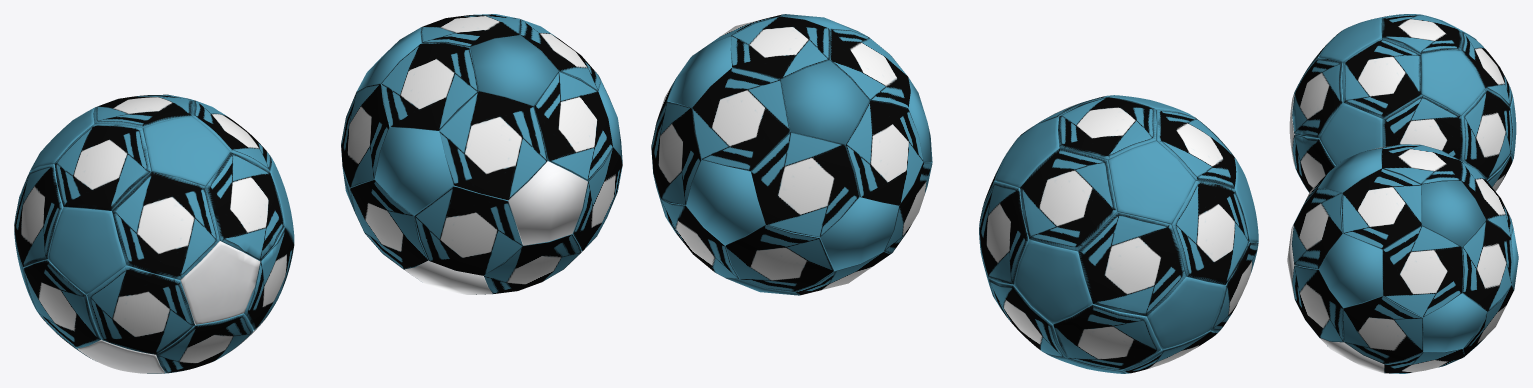
The model's file is corea-del-sur.glb.
3 views of the same model, side by side, from view 1: azimuth 30°, elevation 25°; view 2: azimuth 150°, elevation 25°; view 3: azimuth 270°, elevation 25° (orthographic). The views are drawn at different scales.
Visible parts, largest first — view 1: TANGO78_LOW, TANGO78HIGH; view 2: TANGO78_LOW, TANGO78HIGH; view 3: TANGO78_LOW, TANGO78HIGH.
Boxes of the visible parts, x1,y1,x2,y2 form: TANGO78_LOW: [341, 14, 622, 294]; TANGO78HIGH: [14, 94, 294, 373]; TANGO78_LOW: [651, 14, 932, 295]; TANGO78HIGH: [979, 95, 1258, 373]; TANGO78_LOW: [1287, 144, 1518, 373]; TANGO78HIGH: [1289, 14, 1516, 192].
Size of the model in its own units: 39.92 by 16.86 by 17.12.
Materials: 2 (2 with a texture image).
